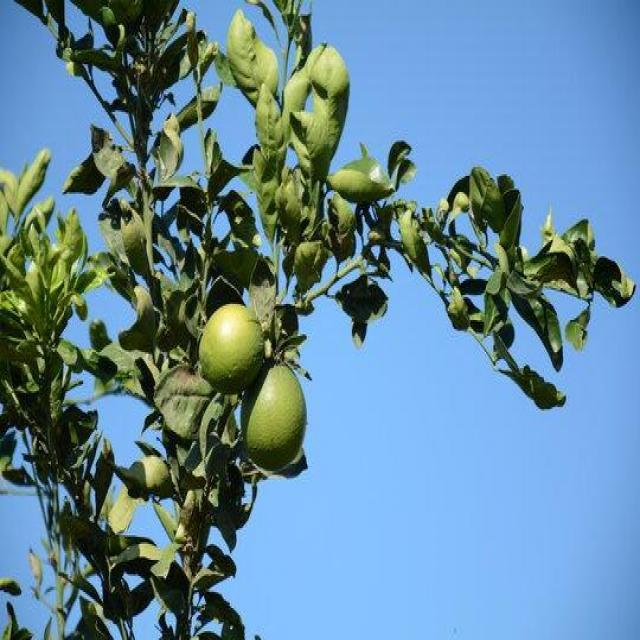Jeruk Belum Matang: (240, 354, 310, 473), (196, 302, 266, 388)
